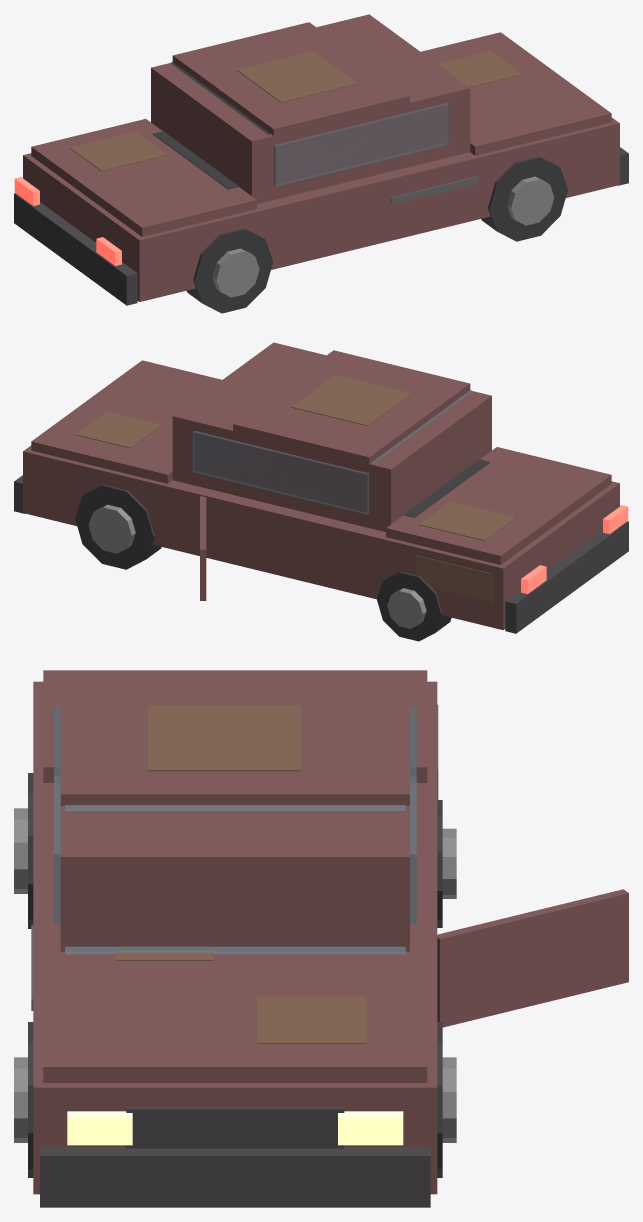
Rendered from carro_sedan.glb.
3 views of the same model, one above another, from view 1: azimuth 30°, elevation 25°; view 2: azimuth 150°, elevation 25°; view 3: azimuth 270°, elevation 25° (orthographic). The views are drawn at different scales.
Parts seen in each view (by area): view 1: body, wheels, decor_grim, glass, lights_red; view 2: body, decor_grim, wheels, glass, lights_red; view 3: body, decor_grim, wheels, glass, lights_amber.
Boxes of the visible parts, x1,y1,x2,y2 form: body: (14,14,628,305); wheels: (186,156,567,313); decor_grim: (70,51,522,204); glass: (171,62,450,186); lights_red: (14,177,121,265); body: (14,342,628,633); decor_grim: (76,375,516,602); wheels: (75,484,451,641); glass: (192,390,471,514); lights_red: (521,505,628,593); body: (33,670,628,1207); decor_grim: (31,704,438,1043); wheels: (14,773,456,1177); glass: (54,706,416,954); lights_amber: (67,1111,403,1145).
Size of the model in its own units: 4.65 by 1.43 by 2.82.
